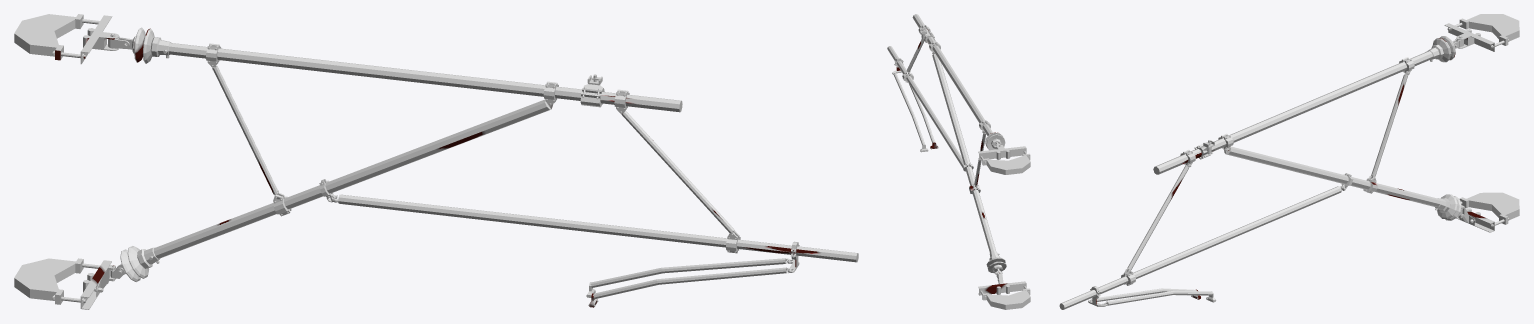
Rendered from Bracket2a45.obj.
3 views of the same model, side by side, from view 1: azimuth 30°, elevation 25°; view 2: azimuth 150°, elevation 25°; view 3: azimuth 270°, elevation 25° (orthographic). The views are drawn at different scales.
Visible parts, largest first — view 1: obj1; view 2: obj1; view 3: obj1.
Boxes of the visible parts, x1,y1,x2,y2 form: obj1: (14,14,858,309); obj1: (887,14,1030,309); obj1: (1059,14,1519,309).
Size of the model in its own units: 2.54 by 1.2 by 2.54.
1 material, 1 textured.
